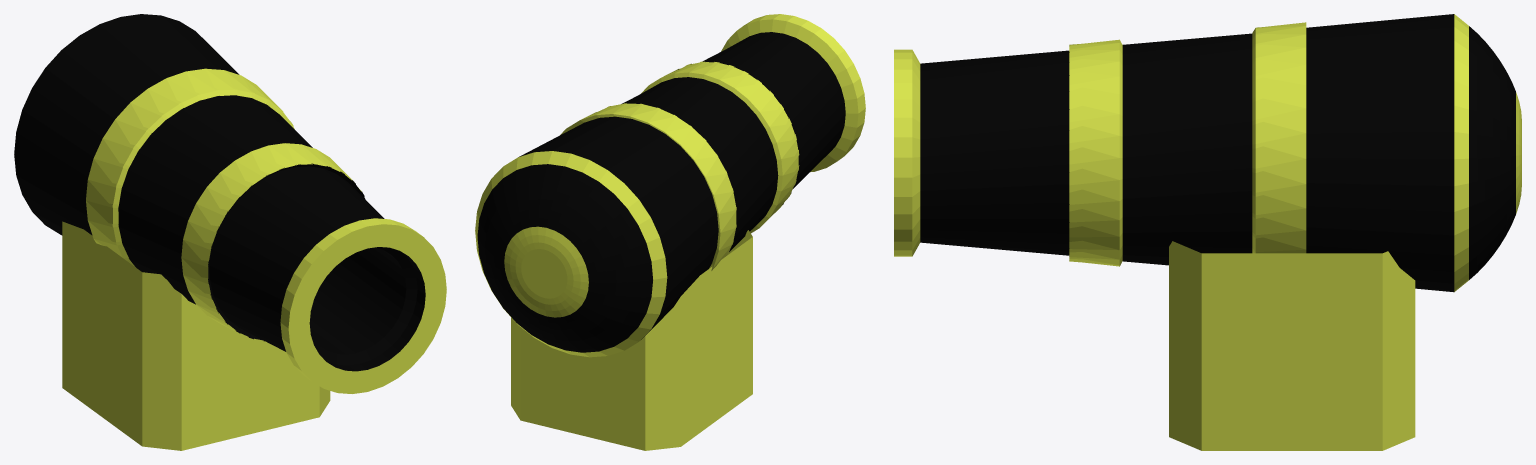
File: can33.fbx
3 views of the same model, side by side, from view 1: azimuth 30°, elevation 25°; view 2: azimuth 150°, elevation 25°; view 3: azimuth 270°, elevation 25° (orthographic). The views are drawn at different scales.
Visible parts, largest first — view 1: Cylinder; view 2: Cylinder; view 3: Cylinder.
Part boxes in pixels (<box>): Cylinder: <box>14,14,446,450</box>; Cylinder: <box>475,14,865,450</box>; Cylinder: <box>894,14,1521,450</box>.
Bounding box in the file's own units: 67.83 × 99.33 × 153.
